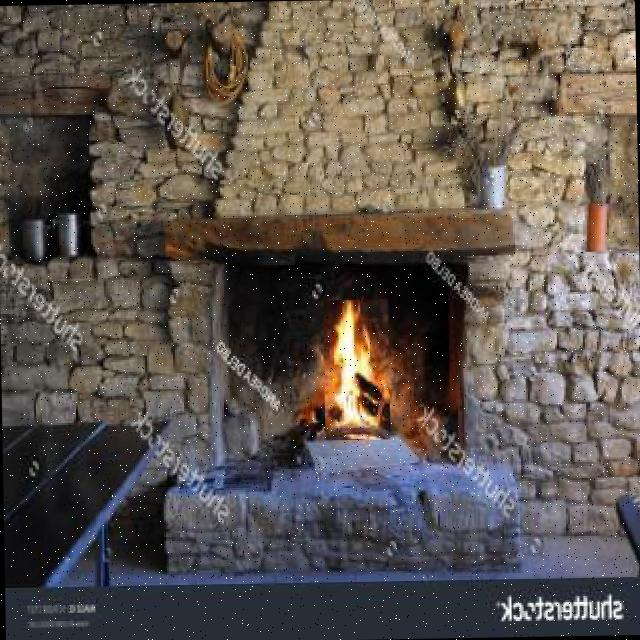fire: (323, 299, 390, 440)
